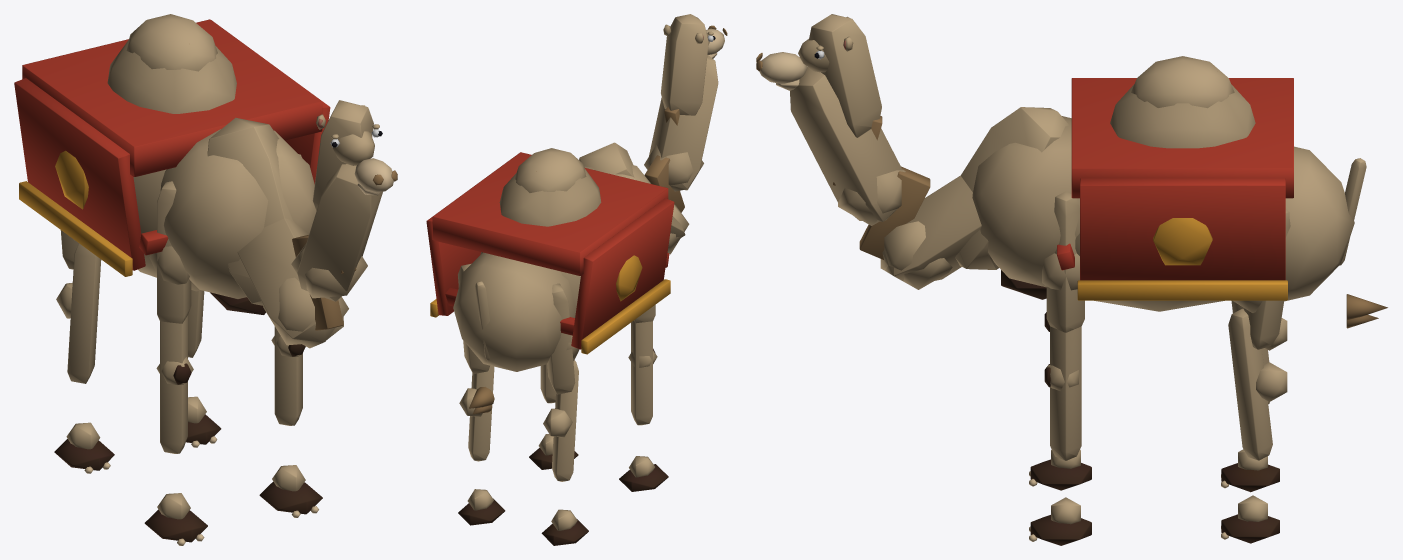
Rendered from camel.glb.
The picture shows the model from 3 angles, left to right: view 1: azimuth 30°, elevation 25°; view 2: azimuth 150°, elevation 25°; view 3: azimuth 270°, elevation 25°; orthographic projection. The views are drawn at different scales.
Visible parts, largest first — view 1: camel; view 2: camel; view 3: camel.
Boxes of the visible parts, box(x1,y1,x2,y2) form: camel: box(14, 14, 397, 545); camel: box(426, 14, 727, 545); camel: box(756, 14, 1387, 545).
Size of the model in its own units: 1.04 by 2.34 by 2.7.
